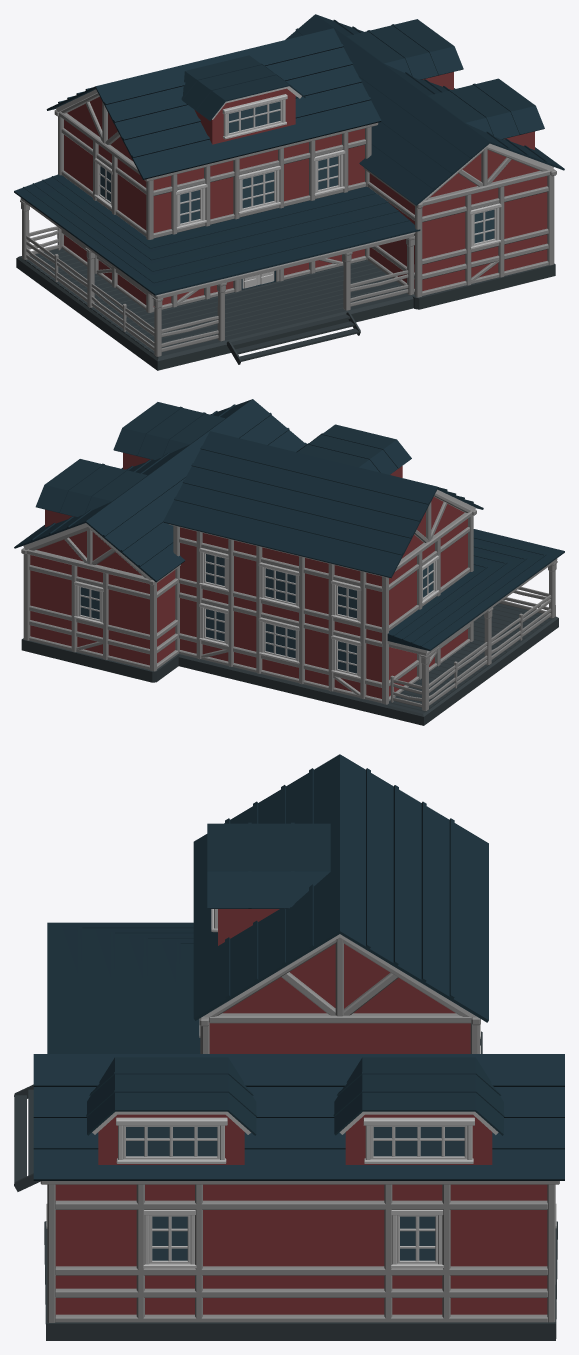
Rendered from house3.fbx.
3 renders of one model, top to bottom at view 1: azimuth 30°, elevation 25°; view 2: azimuth 150°, elevation 25°; view 3: azimuth 270°, elevation 25°, orthographic. The views are drawn at different scales.
Parts seen in each view (by area): view 1: house_15; view 2: house_15; view 3: house_15.
Boxes of the visible parts, <box> form: house_15: <box>14,14,564,370</box>; house_15: <box>14,399,564,725</box>; house_15: <box>14,754,564,1340</box>.
Bounding box in the file's own units: 1867 × 925 × 1442.
Materials: 1 (1 with a texture image).
